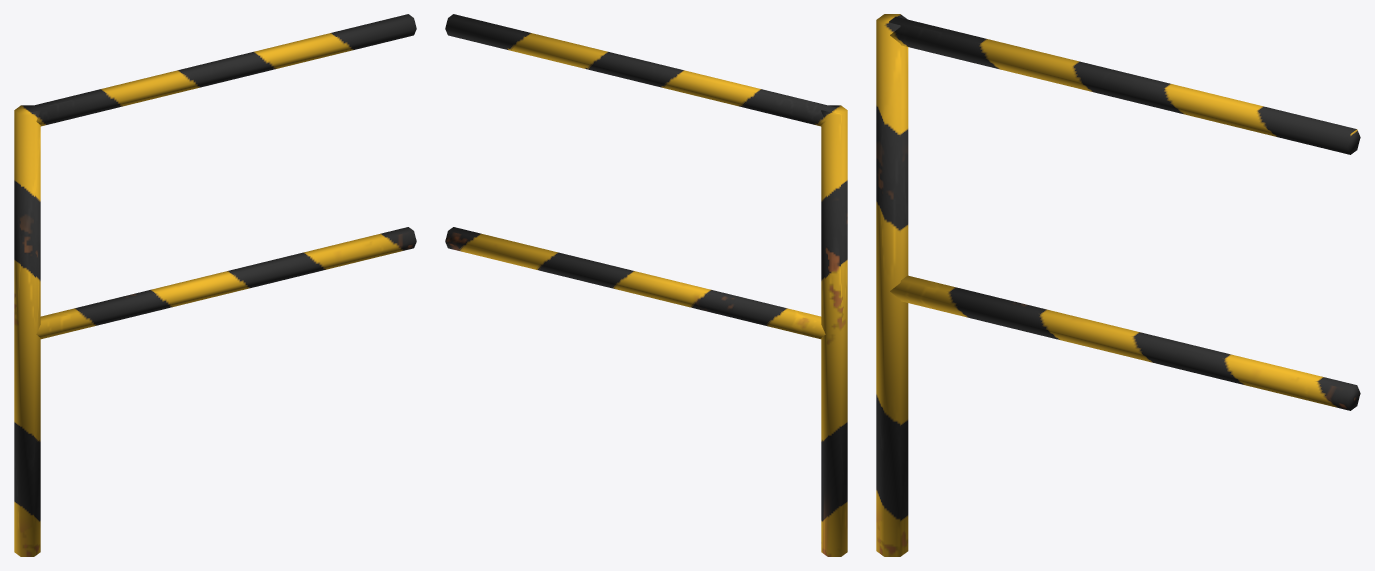
File: bunker_rail.glb
3 renders of one model, left to right at view 1: azimuth 30°, elevation 25°; view 2: azimuth 150°, elevation 25°; view 3: azimuth 330°, elevation 25°, orthographic. The views are drawn at different scales.
Parts seen in each view (by area): view 1: Rail; view 2: Rail; view 3: Rail.
Part boxes in pixels (x1,y1,x2,y2): Rail: [14, 14, 416, 556]; Rail: [445, 14, 847, 556]; Rail: [876, 14, 1360, 556].
Size of the model in its own units: 1.03 by 1.1 by 0.06.
Materials: 1 (1 with a texture image).
